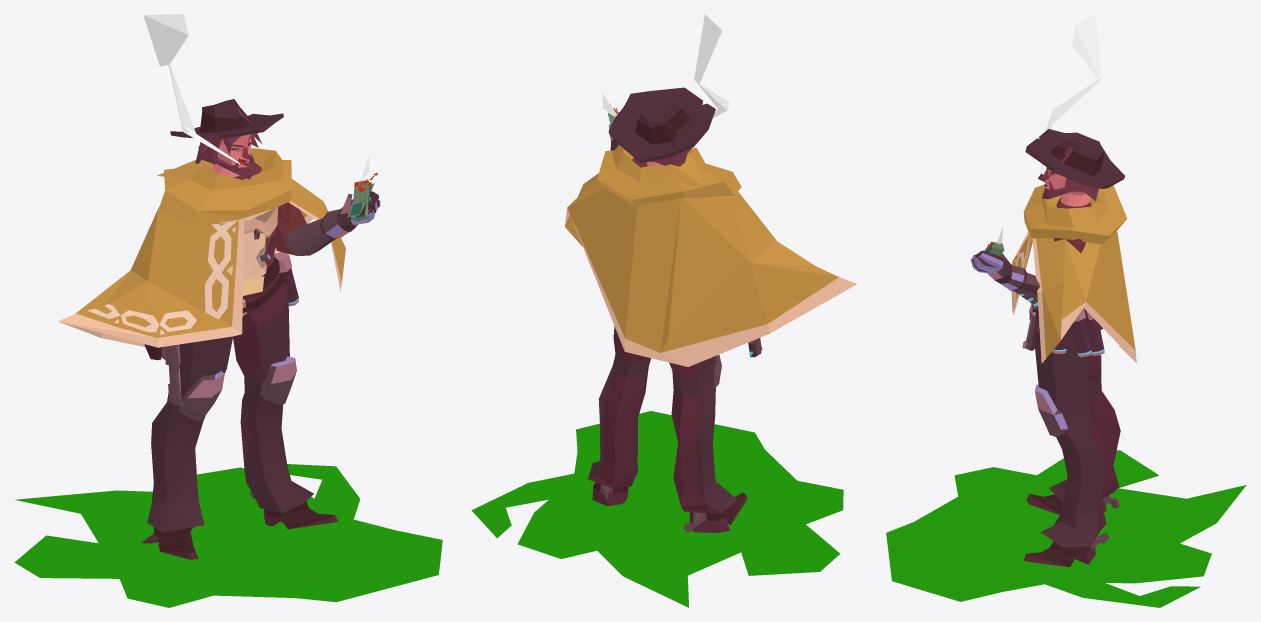
The picture shows the model from 3 angles, left to right: view 1: azimuth 30°, elevation 25°; view 2: azimuth 150°, elevation 25°; view 3: azimuth 270°, elevation 25°; orthographic projection. The views are drawn at different scales.
Parts seen in each view (by area): view 1: Cylinder.001, mccree, Cylinder, Cube.001, GUN, Cylinder.002; view 2: Cylinder.001, mccree, Cylinder; view 3: Cylinder.001, mccree, Cylinder, Cylinder.003, Cylinder.004.
Boxes of the visible parts, x1=… form: Cylinder.001: x1=14, y1=148, x2=442, y2=607; mccree: x1=141, y1=14, x2=380, y2=559; Cylinder: x1=170, y1=99, x2=283, y2=139; Cube.001: x1=347, y1=154, x2=377, y2=221; GUN: x1=161, y1=344, x2=182, y2=406; Cylinder.002: x1=274, y1=252, x2=298, y2=306; Cylinder.001: x1=471, y1=145, x2=856, y2=607; mccree: x1=588, y1=14, x2=747, y2=532; Cylinder: x1=608, y1=87, x2=715, y2=162; Cylinder.001: x1=886, y1=185, x2=1246, y2=607; mccree: x1=970, y1=14, x2=1120, y2=567; Cylinder: x1=1025, y1=129, x2=1124, y2=188; Cylinder.003: x1=1071, y1=308, x2=1091, y2=357; Cylinder.004: x1=1087, y1=312, x2=1104, y2=355.
Size of the model in its own units: 1.99 by 2.97 by 1.96.
